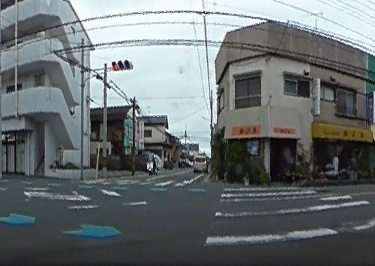person: (348, 155, 358, 181)
